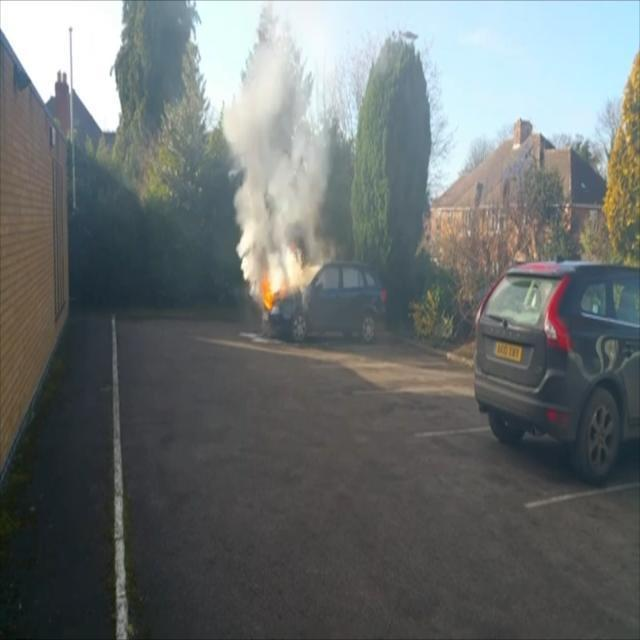fire: (256, 244, 314, 312)
